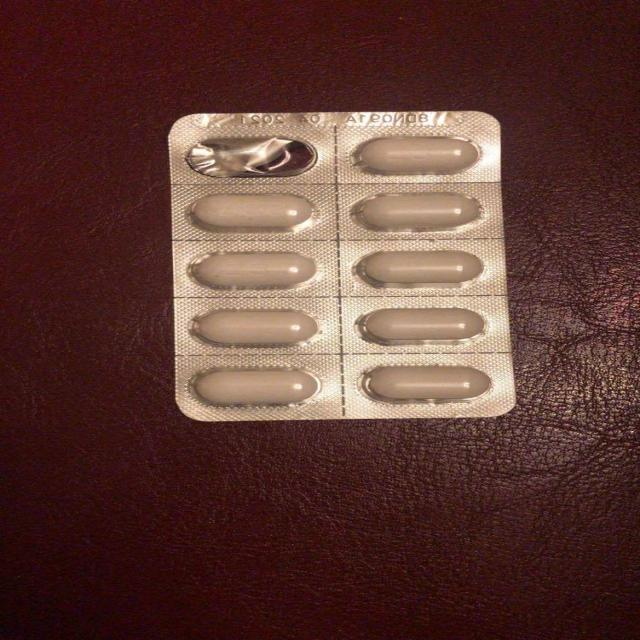Empty: (188, 135, 320, 180)
Pill: (345, 358, 494, 408), (183, 362, 326, 413), (179, 304, 330, 351), (339, 303, 496, 348), (343, 130, 490, 178), (337, 248, 492, 293), (179, 248, 326, 292), (352, 190, 486, 238), (192, 190, 320, 235)
